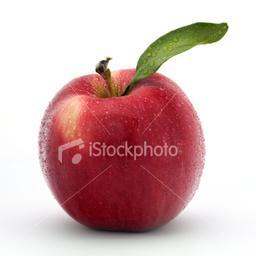apple: (38, 67, 206, 233)
